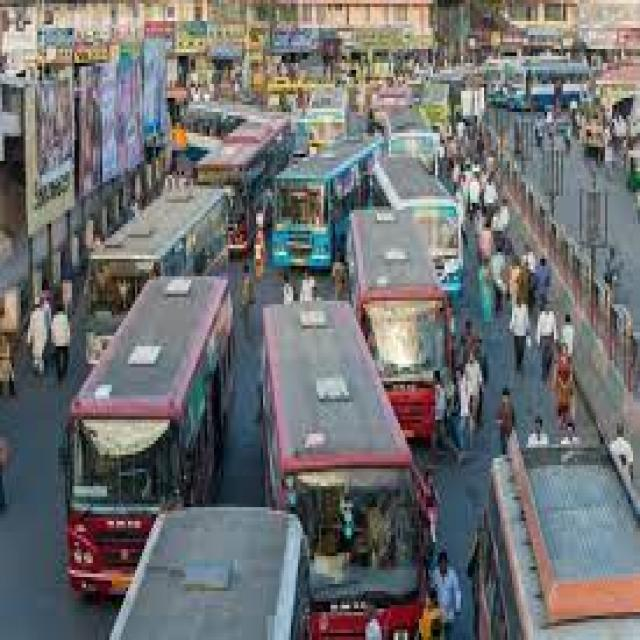bus: (265, 304, 421, 640), (67, 280, 230, 595), (470, 434, 638, 640), (109, 507, 307, 640), (86, 185, 226, 364), (351, 213, 447, 441), (270, 140, 377, 269), (198, 115, 289, 255), (375, 157, 461, 294), (486, 56, 586, 108)
person: (433, 553, 458, 640), (554, 346, 570, 444), (435, 378, 454, 451), (465, 353, 479, 448), (510, 301, 528, 371), (51, 308, 67, 381), (538, 308, 554, 381), (28, 308, 44, 374), (610, 437, 631, 479), (419, 602, 440, 640), (498, 388, 512, 441), (535, 259, 549, 311), (526, 416, 547, 448), (240, 266, 254, 311), (561, 318, 573, 357), (333, 262, 344, 301), (300, 280, 312, 304), (284, 283, 291, 304)
